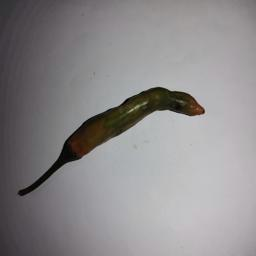Buah Cabai Sehat: (59, 85, 205, 165)
